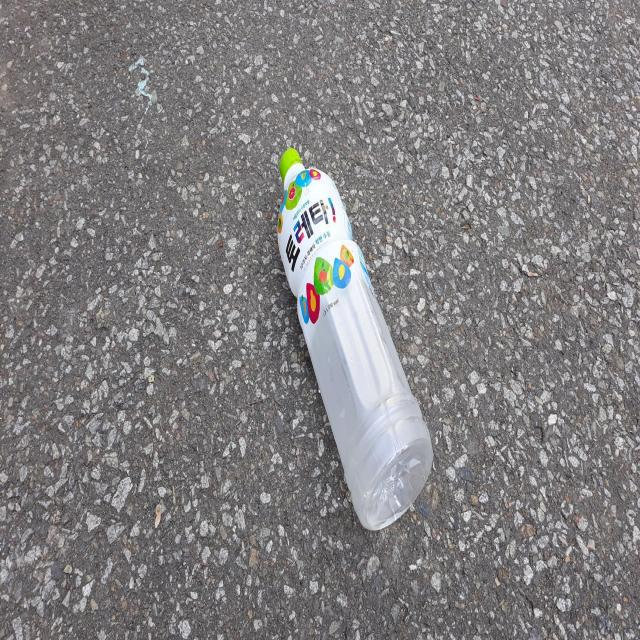plastic: (278, 147, 434, 530)
